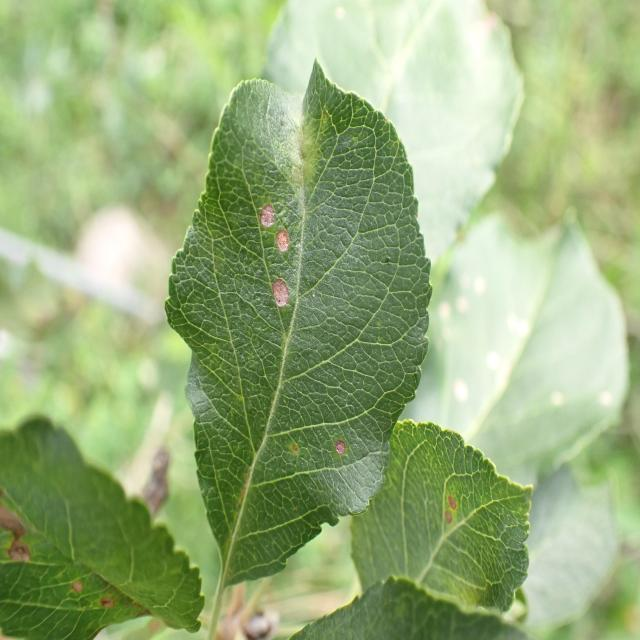Black Rot: (0, 472, 42, 572), (434, 483, 469, 539), (326, 425, 354, 479), (92, 578, 123, 621), (59, 567, 86, 606), (251, 194, 280, 230), (267, 273, 293, 307), (270, 231, 294, 266), (276, 430, 304, 458)
